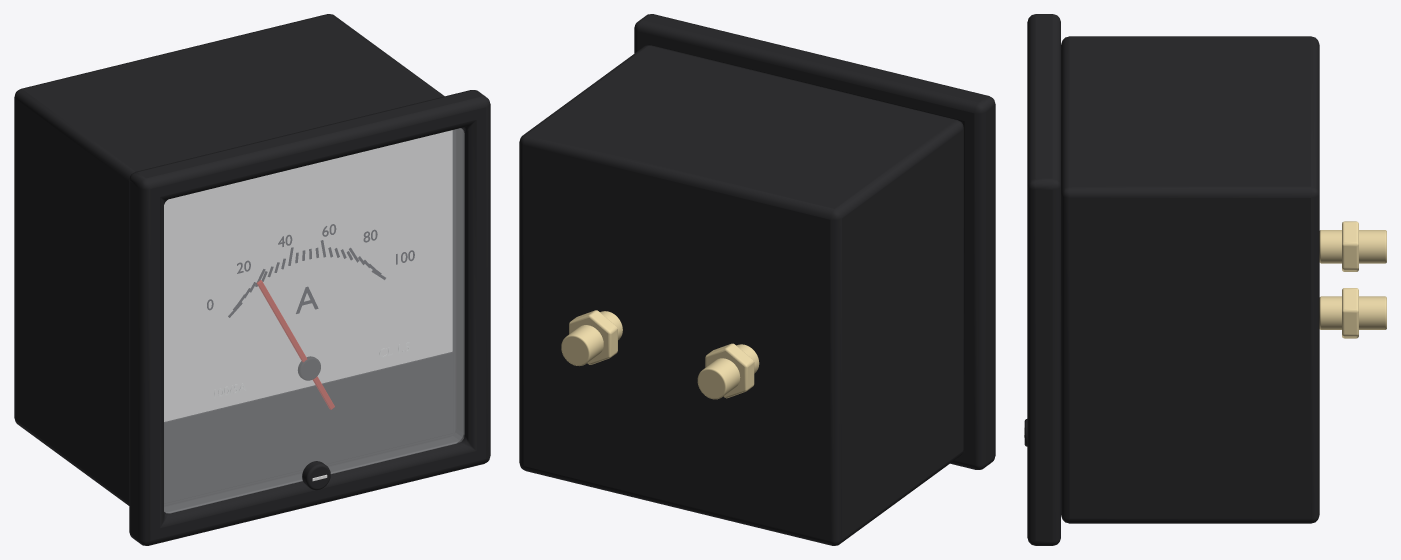
Rendered from ammeter.glb.
The picture shows the model from 3 angles, left to right: view 1: azimuth 30°, elevation 25°; view 2: azimuth 150°, elevation 25°; view 3: azimuth 270°, elevation 25°; orthographic projection.
Visible parts, largest first — view 1: bezel, glass, scale, pointer, zero; view 2: bezel, terminals; view 3: bezel, terminals.
Boxes of the visible parts, x1=… form: bezel: x1=14, y1=14, x2=490, y2=545; glass: x1=164, y1=128, x2=464, y2=513; scale: x1=164, y1=130, x2=453, y2=503; pointer: x1=257, y1=280, x2=334, y2=409; zero: x1=302, y1=461, x2=330, y2=490; bezel: x1=519, y1=14, x2=995, y2=545; terminals: x1=561, y1=310, x2=759, y2=399; bezel: x1=1027, y1=14, x2=1319, y2=545; terminals: x1=1319, y1=221, x2=1386, y2=338.
Size of the model in its own units: 0.072 by 0.072 by 0.0646.
